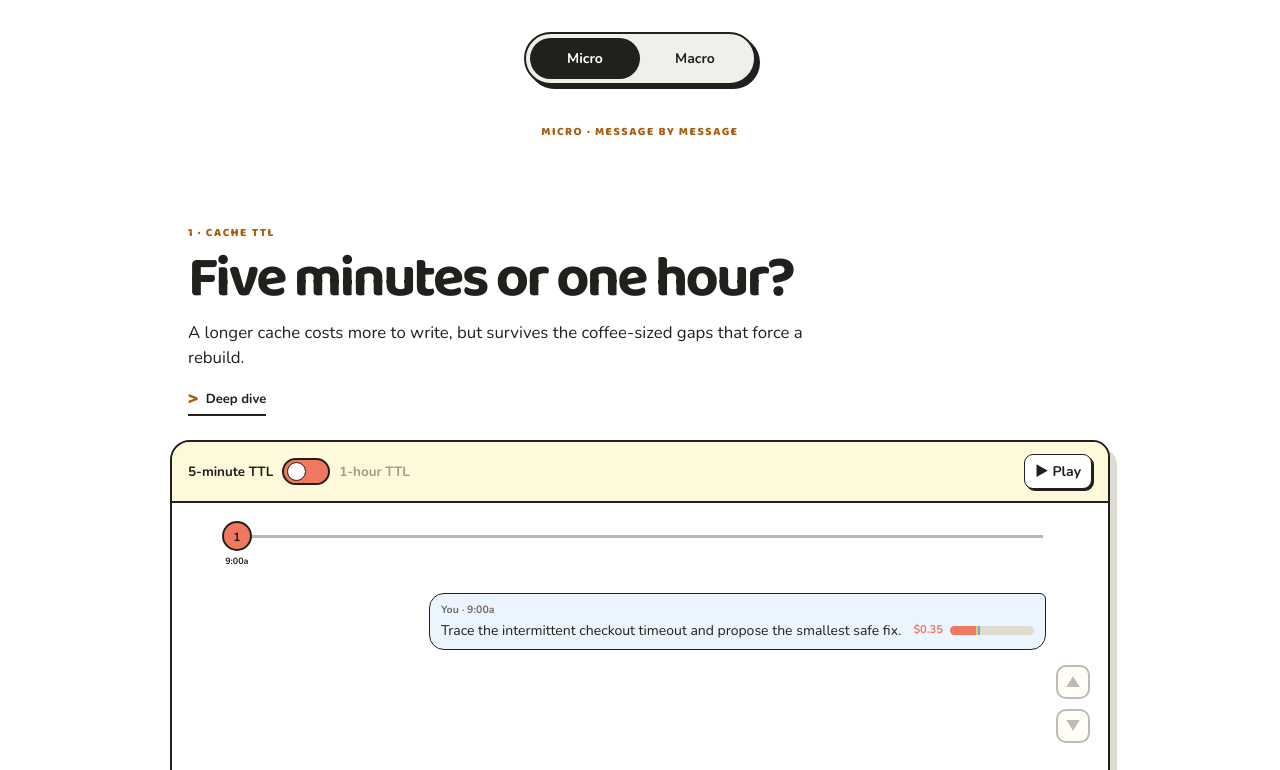
Test: Micro and Macro articles › reveals and closes an individual deep dive while TL;DR is on
(page scrolled)
Click the button with class "expand" at (227, 400), box [188,384,266,416]
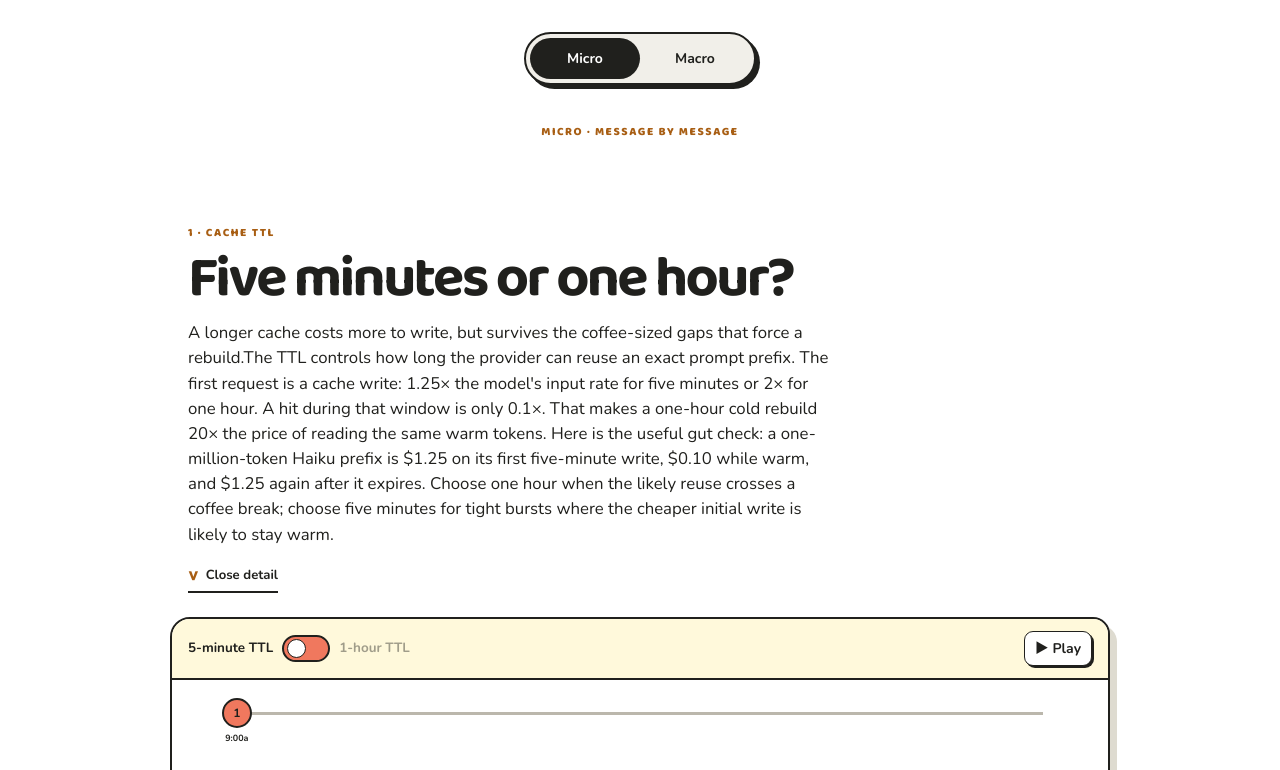
Expected: the element with test id "deep-dive" shows "A longer cache costs more to write", [188,321,803,369]
Now the button with class "expand" is expanded
Now the text with test id "deep-dive" shows "20× the price", box [188,346,828,546]
Click the button with class "expand" at (233, 577), box [188,561,278,592]
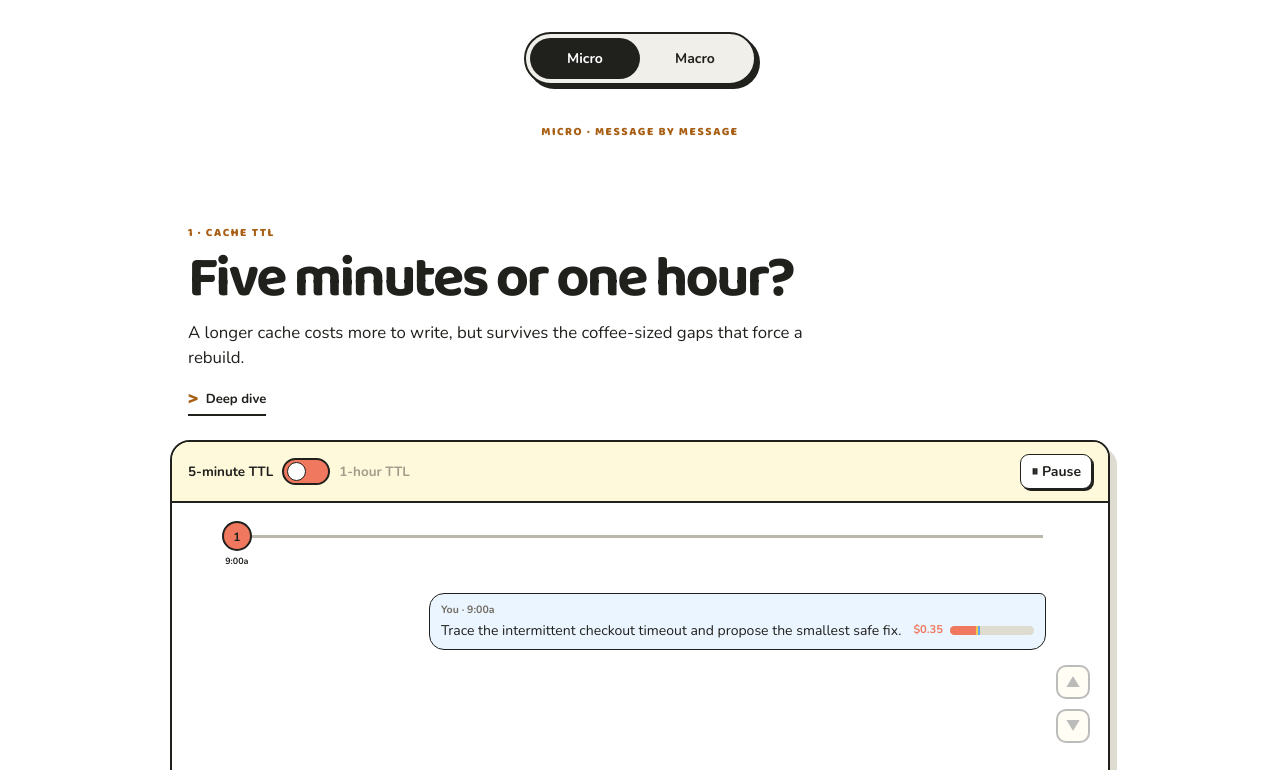
Now the text with test id "deep-dive" is gone
